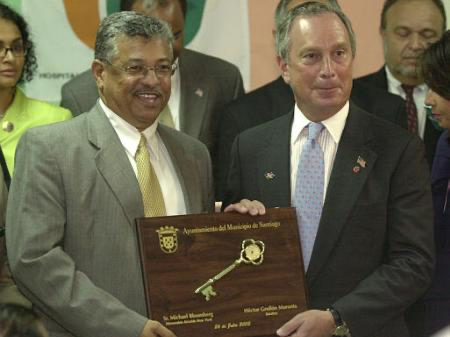Face: (287, 13, 354, 112), (102, 39, 180, 123), (386, 2, 440, 83), (0, 18, 30, 93), (423, 62, 446, 131)
